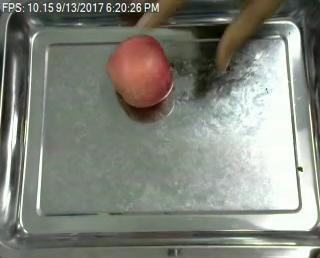apple: (104, 33, 174, 107)
